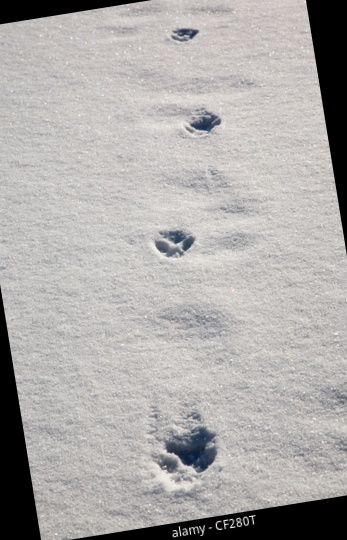fox: (128, 401, 240, 496), (133, 214, 210, 271), (160, 96, 242, 147)
